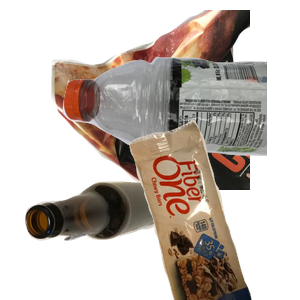glass: (23, 179, 183, 300)
paper: (49, 10, 289, 190)
plastic: (60, 53, 300, 201)
trash: (127, 120, 300, 300)
